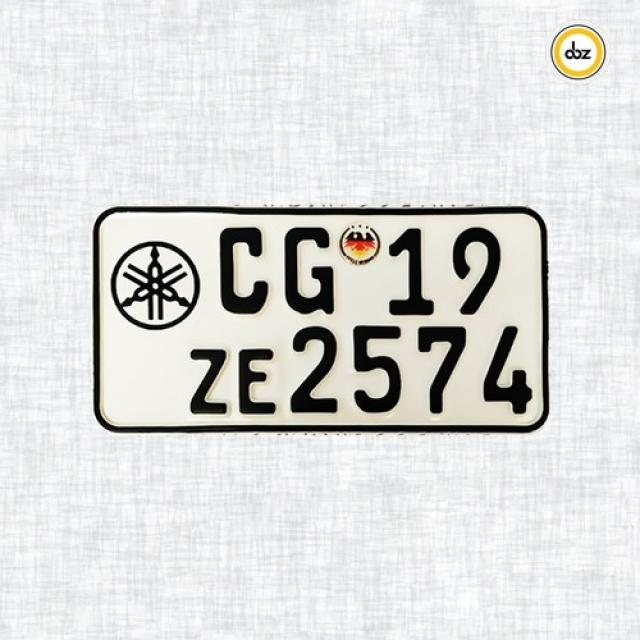plate: (89, 204, 556, 443)
